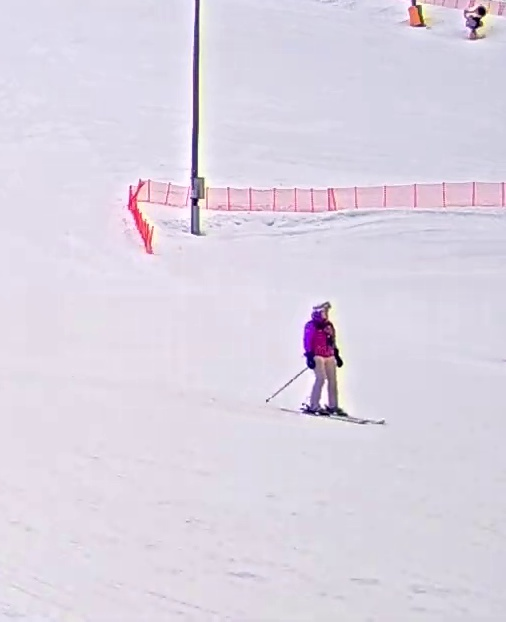skier: (266, 293, 389, 428)
